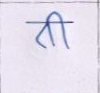i_matra: (52, 11, 71, 50)
